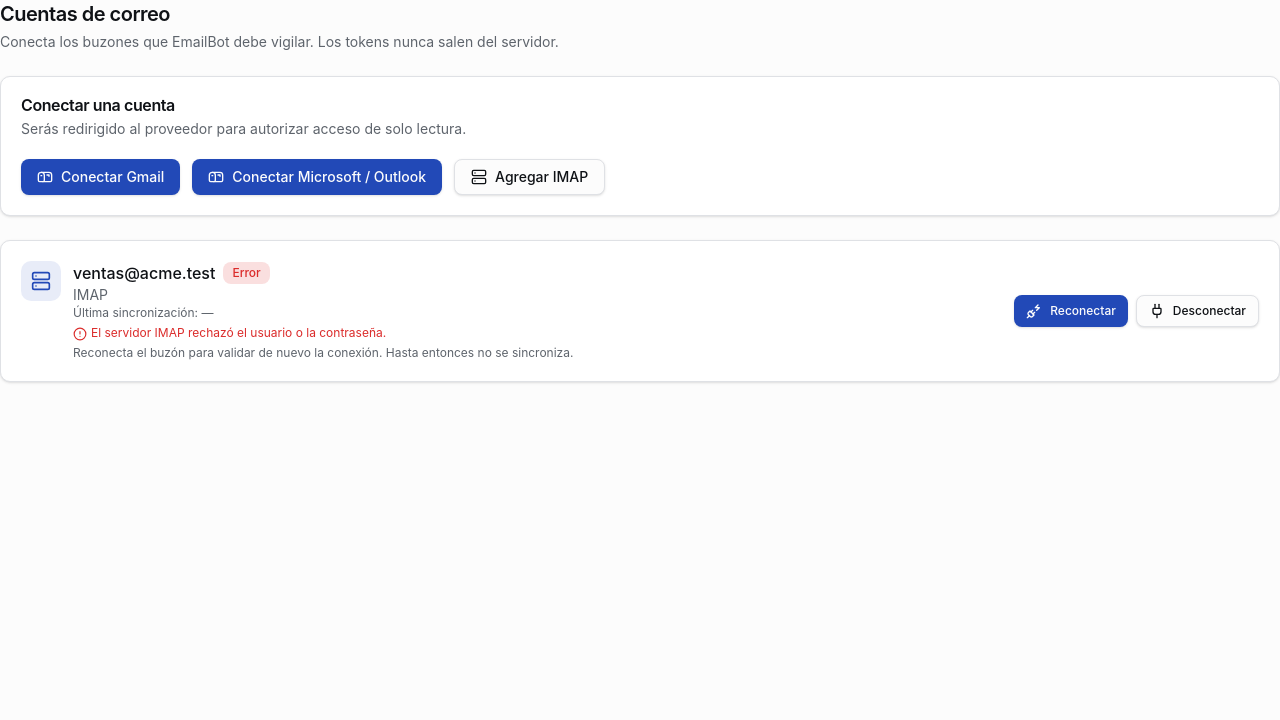
Test case: M1.7 (D1): IMAP dialog body = the API's strict schema › a port without an allowed transport is refused in the form (no request, never plaintext)
This screenshot has width=1280, height=720.
Click the button "Agregar IMAP": (530, 177) [454,159,605,195]
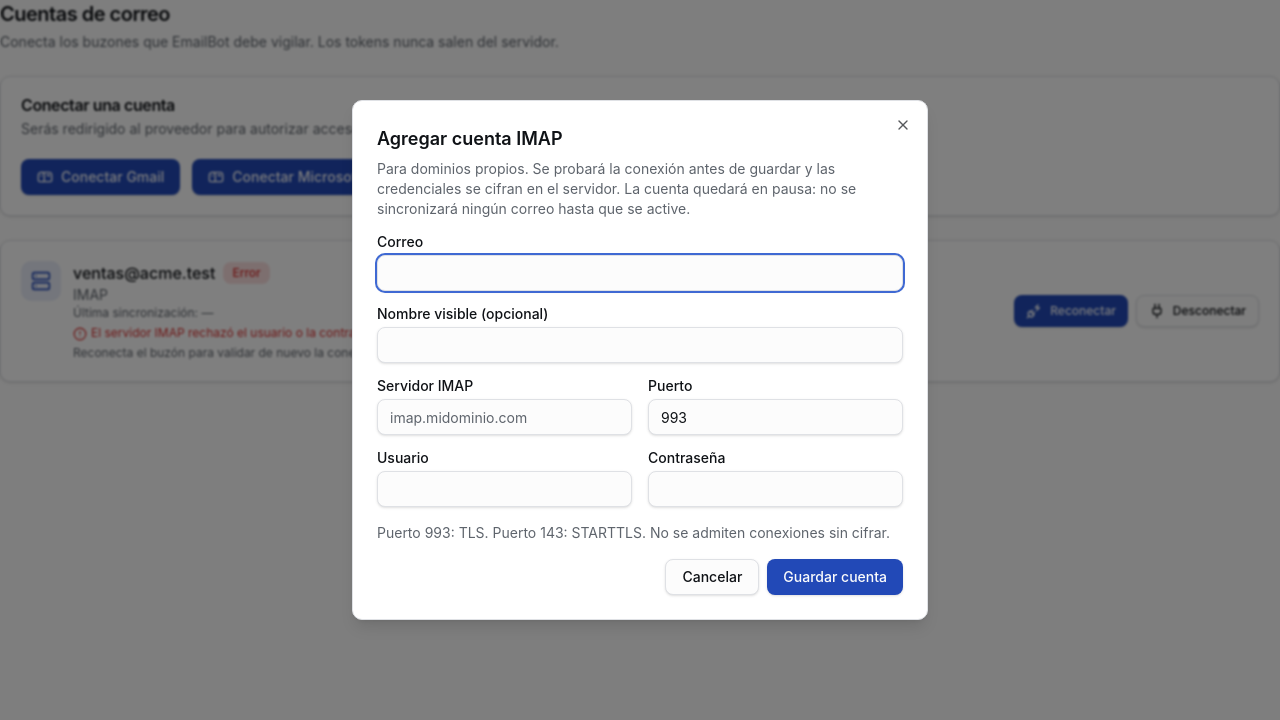
In the field labelled "Correo": (640, 273) [377,255,903,291], type "nueva@acme.test"
In the field labelled "Servidor IMAP": (504, 417) [377,399,632,435], type "imap.acme-mail.com"
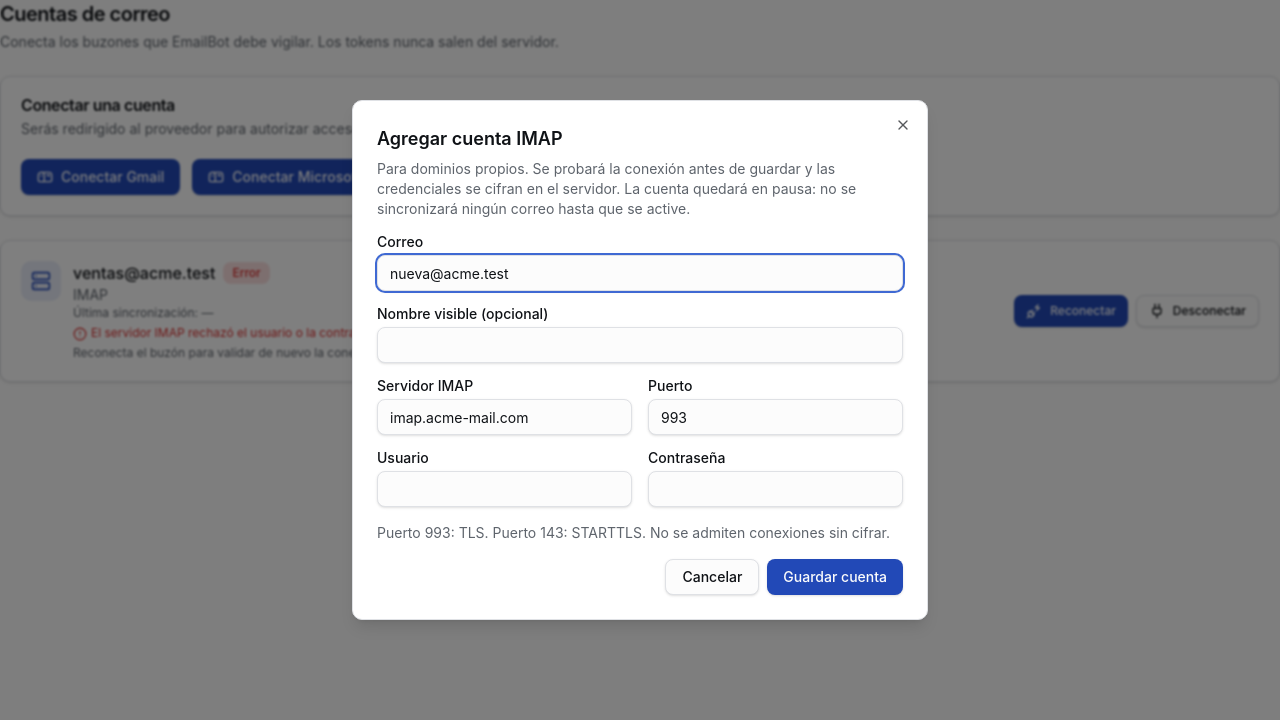
Replace the text in the number field labelled "Puerto" with "110": (776, 417) [648,399,903,435]
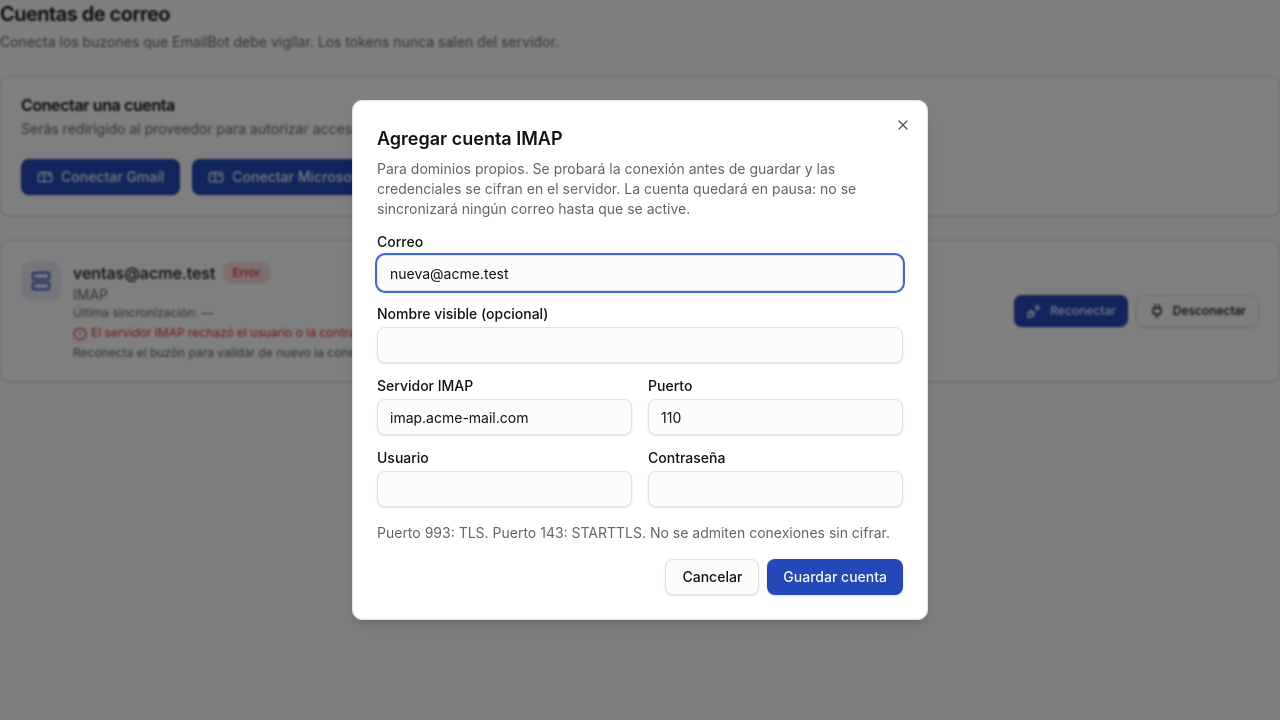
In the field labelled "Usuario": (504, 489) [377,471,632,507], type "usuario-prueba"
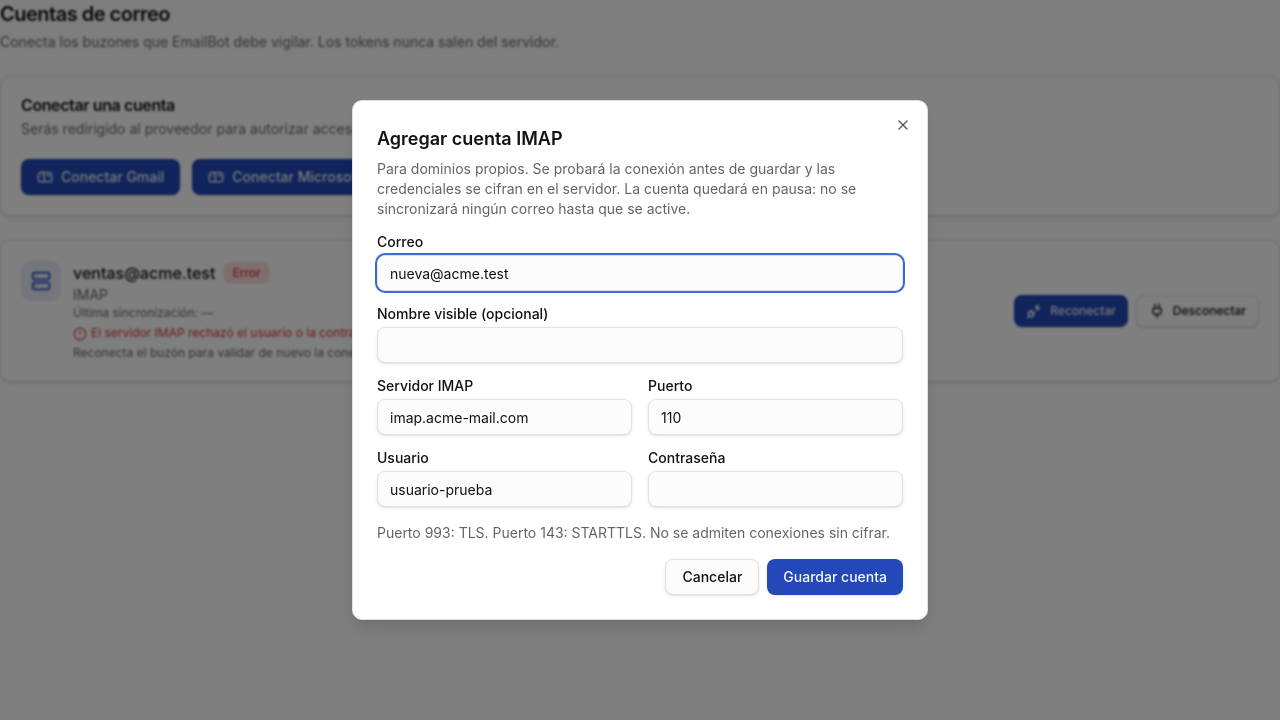
In the password field labelled "Contraseña": (776, 489) [648,471,903,507], type "clave-de-prueba-m17"
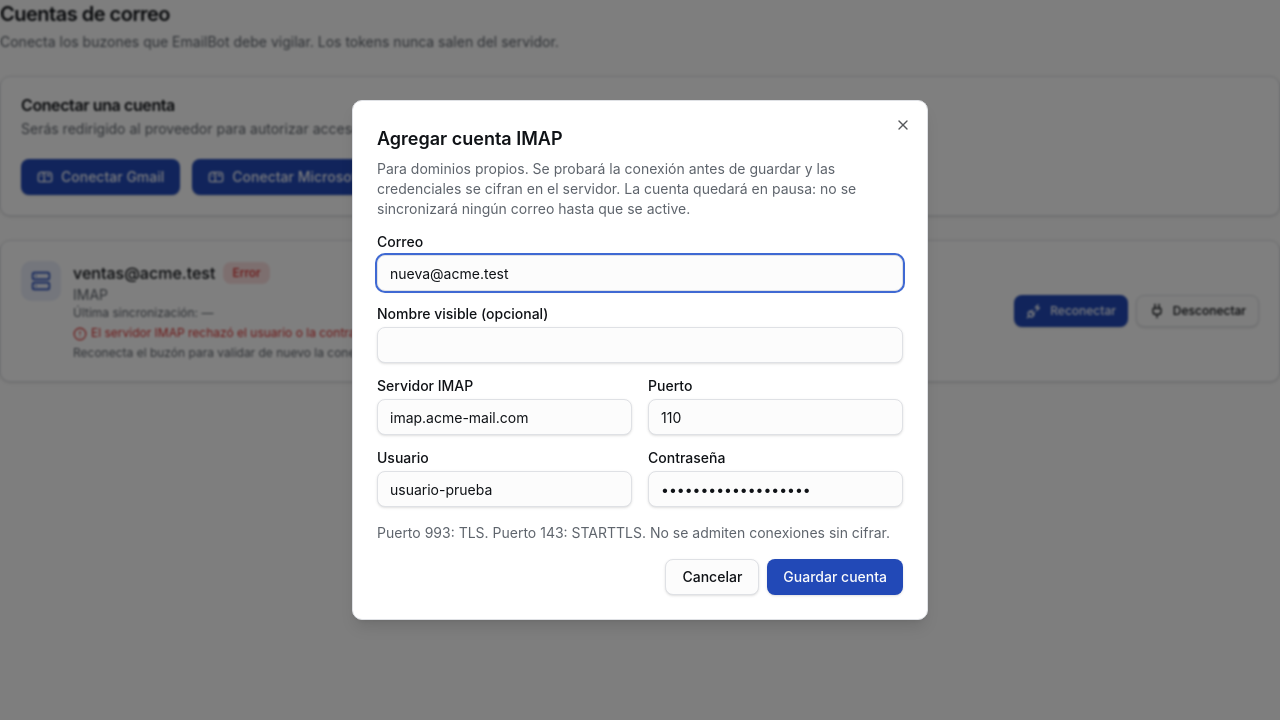
Click the button "Guardar cuenta": (835, 577) [767,559,903,595]
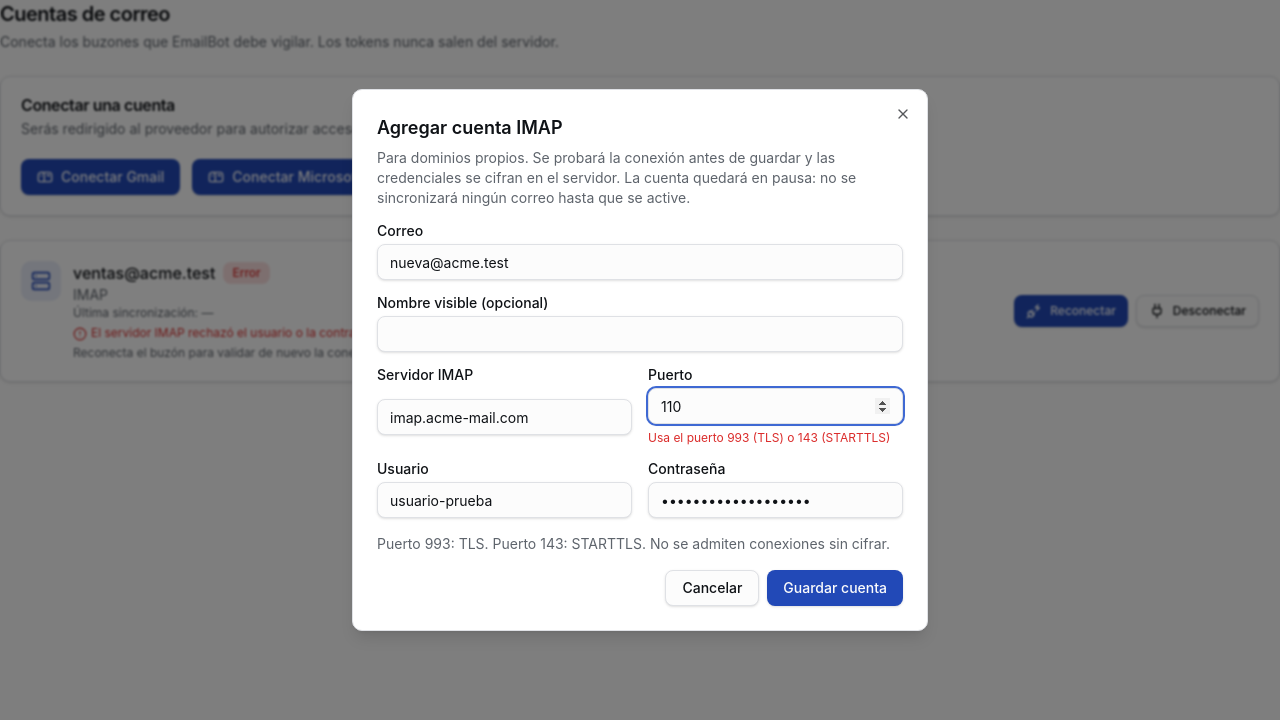
Result: the text "Usa el puerto 993 (TLS) o 143 (STARTTLS)" is shown at [648,430,903,446]
